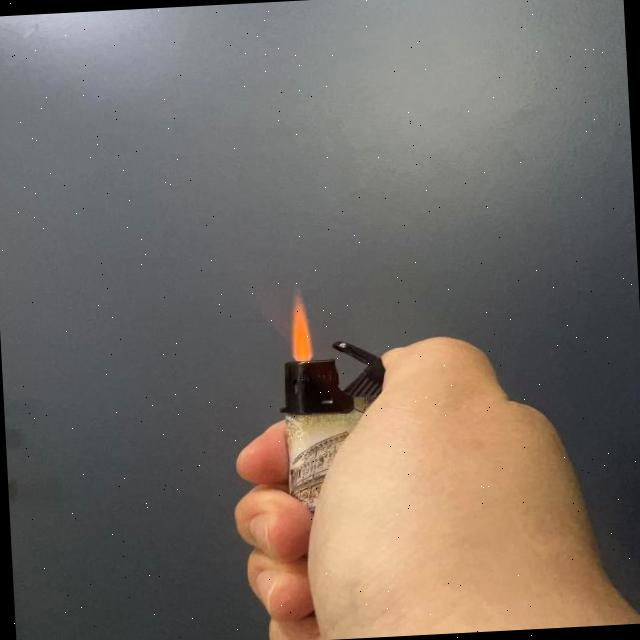fire: (282, 286, 318, 364)
